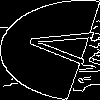V: (24, 25, 100, 67)
